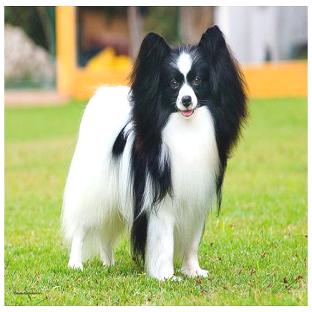Animal: (63, 26, 248, 278)
